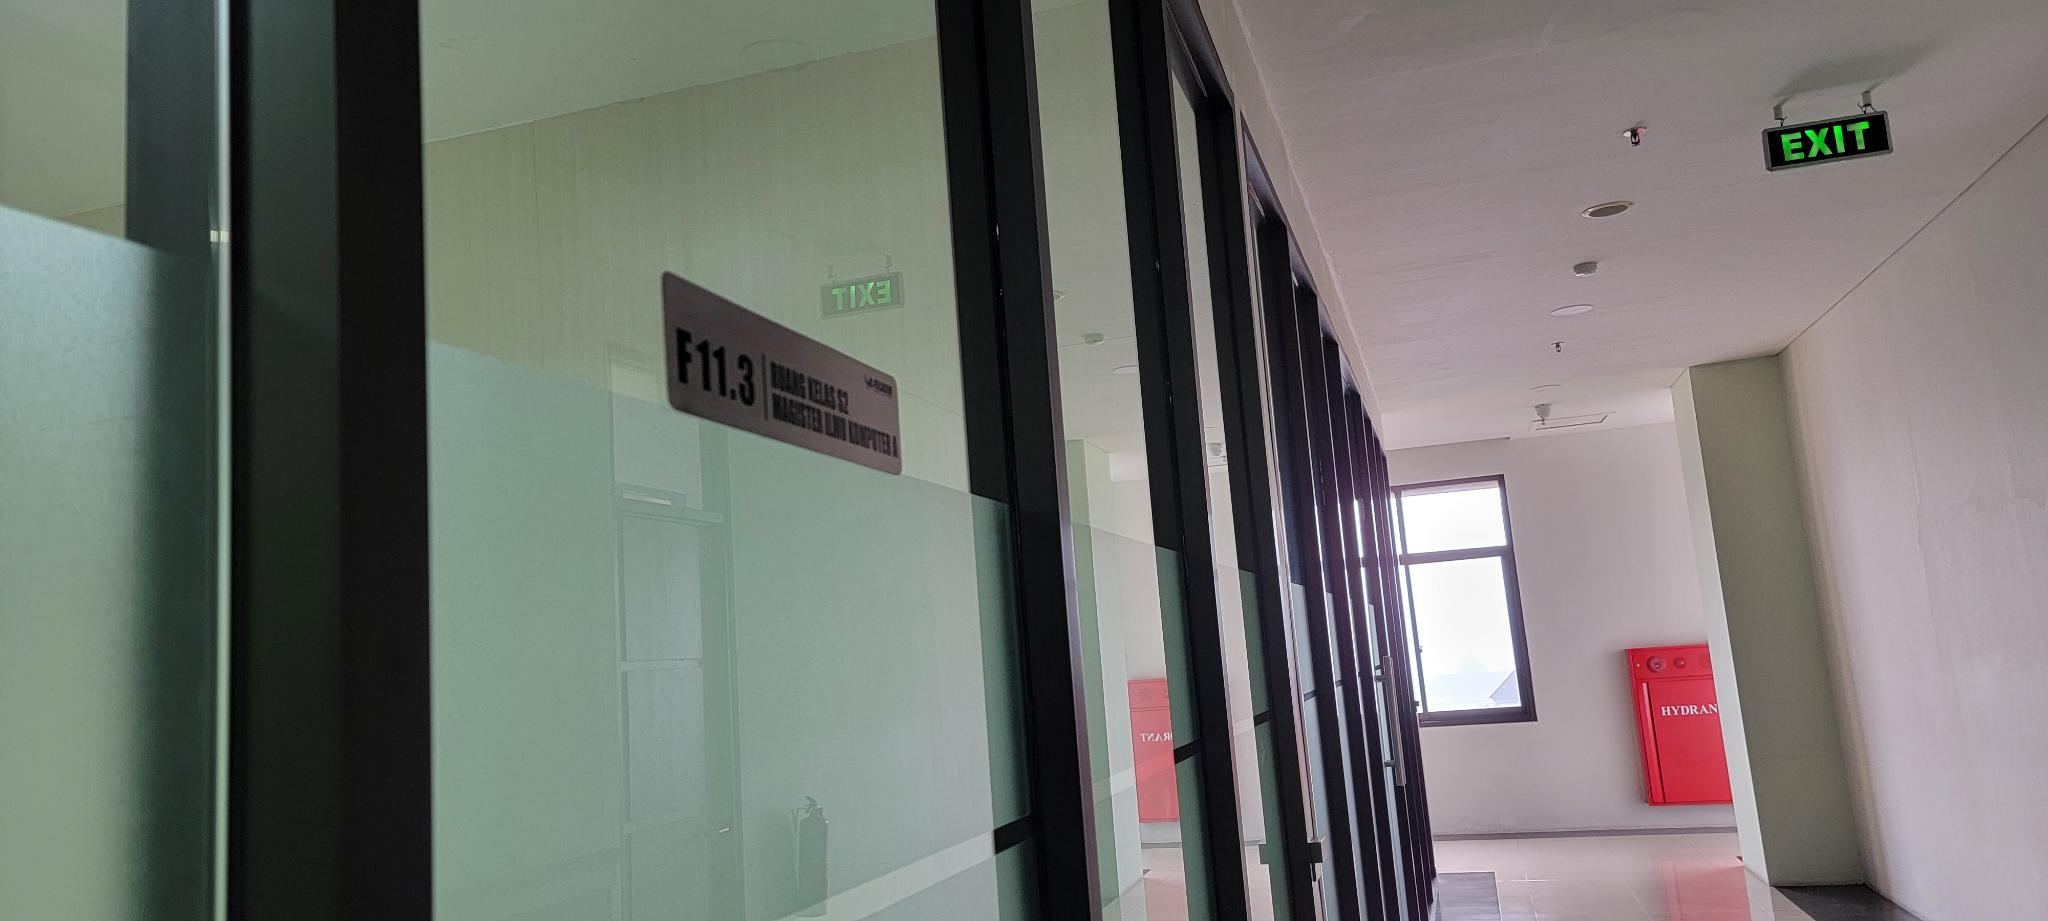plate: (661, 265, 901, 481)
